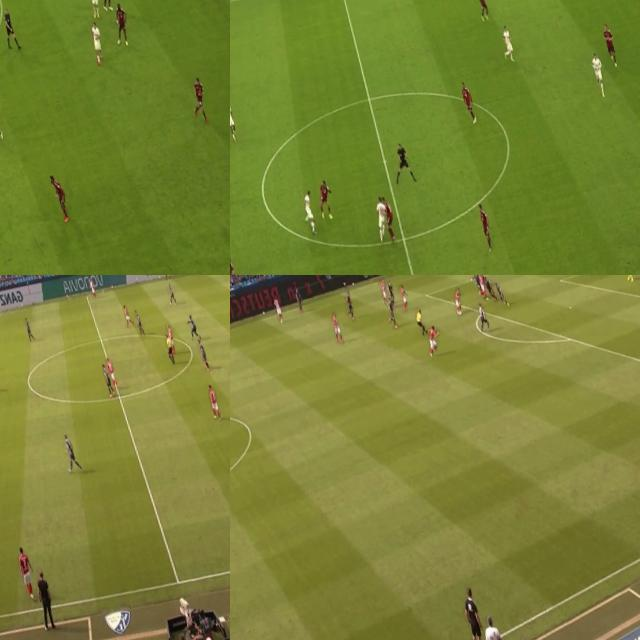ball: (310, 220, 314, 227), (458, 310, 462, 316)
player: (11, 542, 37, 600), (48, 165, 72, 222), (369, 194, 394, 245), (85, 18, 110, 68), (312, 175, 338, 221), (298, 186, 320, 233), (598, 15, 619, 64), (109, 0, 131, 46), (379, 192, 399, 242), (186, 77, 208, 121), (588, 50, 608, 97), (474, 201, 495, 245), (458, 78, 478, 123), (60, 426, 80, 471), (422, 321, 443, 359), (498, 24, 517, 60), (130, 301, 146, 338), (206, 384, 222, 421), (162, 321, 178, 356), (450, 285, 468, 316), (99, 361, 114, 398), (104, 354, 120, 388), (475, 302, 492, 334), (330, 310, 344, 346), (162, 276, 178, 306), (20, 312, 34, 346), (186, 308, 200, 342), (230, 233, 241, 275), (384, 297, 398, 330), (271, 292, 284, 326), (84, 0, 106, 20), (292, 280, 305, 312), (196, 338, 209, 368), (342, 292, 357, 318), (377, 275, 390, 305), (230, 97, 239, 139), (473, 0, 492, 19), (85, 278, 100, 302), (494, 281, 508, 306), (484, 275, 497, 300), (398, 281, 409, 310), (634, 196, 640, 246), (384, 278, 396, 302), (121, 303, 132, 328), (97, 0, 117, 12), (476, 275, 486, 296), (472, 275, 485, 291), (472, 275, 482, 295)
